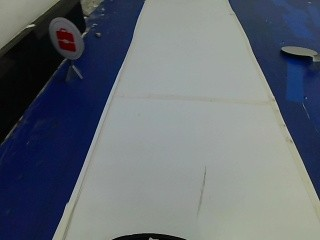company: (47, 15, 86, 60)
